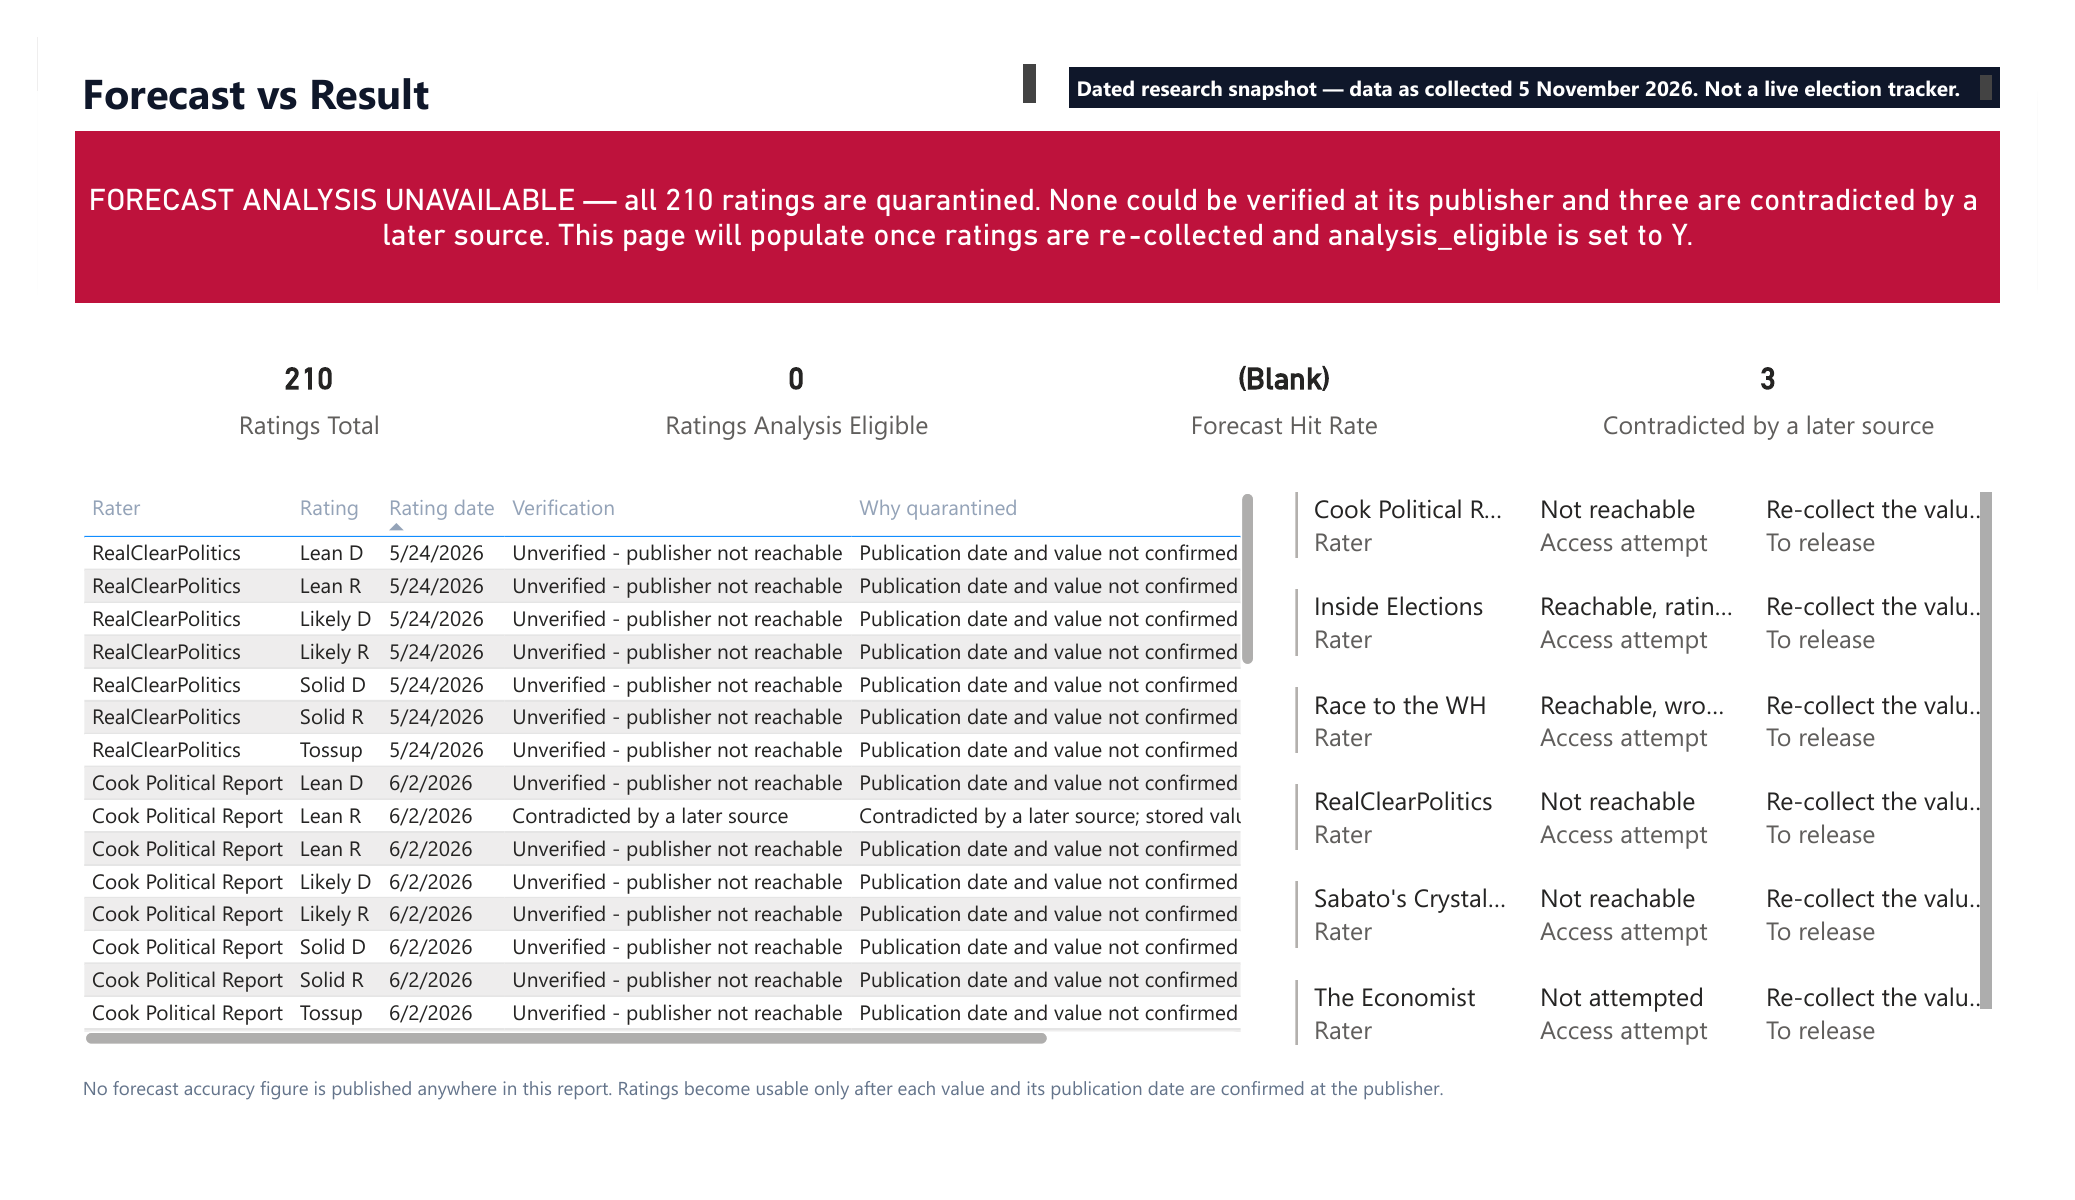

Layout of this report page (visuals, bound fields, positions):
{"tool":"powerbi","page":{"name":"Forecast Performance — UNAVAILABLE","canvas":[1280,720],"ordinal":4},"visuals":[{"type":"textbox","box":[24,12,620,40],"z":0},{"type":"card","fields":{"Values":["_Measures.Forecast Availability"]},"box":[24,60,1232,110],"z":1000},{"type":"card","fields":{"Values":["_Measures.Ratings Total"]},"box":[24,186,300,86],"z":2000},{"type":"card","fields":{"Values":["_Measures.Ratings Analysis Eligible"]},"box":[336,186,300,86],"z":3000},{"type":"card","fields":{"Values":["_Measures.Forecast Hit Rate"]},"box":[648,186,300,86],"z":4000},{"type":"card","fields":{"Values":["CountNonNull(FactRaceRating.verification_status)"]},"box":[960,186,296,86],"z":5000},{"type":"tableEx","fields":{"Values":["FactRaceRating.rater","FactRaceRating.rating","FactRaceRating.rating_as_of_date","FactRaceRating.verification_status","FactRaceRating.quarantine_reason"]},"box":[24,286,760,364],"z":6000},{"type":"multiRowCard","fields":{"Values":["DimRater.rater","DimRater.access_status","FactRaceRating.release_condition"]},"box":[800,286,456,364],"z":7000},{"type":"textbox","box":[24,658,1232,48],"z":8000},{"type":"textbox","box":[660,18.6,596,26],"z":9000}]}

Visuals, with their boxes on the page's 1280x720 design canvas (x1, y1, x2, y2). These are canvas units, not pixel positions in the 2075x1200 screenshot, which may show the page scaled, cropped or inside an application window:
textbox: 24, 12, 644, 52
card - _Measures.Forecast Availability: 24, 60, 1256, 170
card - _Measures.Ratings Total: 24, 186, 324, 272
card - _Measures.Ratings Analysis Eligible: 336, 186, 636, 272
card - _Measures.Forecast Hit Rate: 648, 186, 948, 272
card - CountNonNull(FactRaceRating.verification_status): 960, 186, 1256, 272
tableEx - FactRaceRating.rater x FactRaceRating.rating: 24, 286, 784, 650
multiRowCard - DimRater.rater x DimRater.access_status: 800, 286, 1256, 650
textbox: 24, 658, 1256, 706
textbox: 660, 19, 1256, 45
